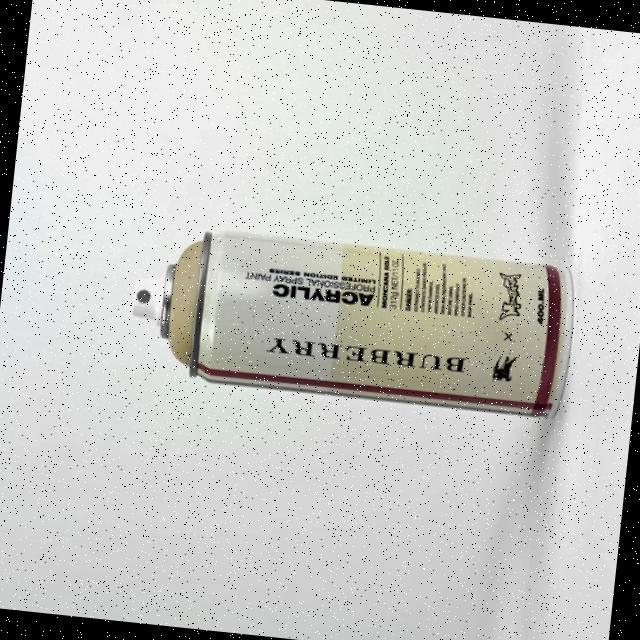chemical_spray_can: (131, 231, 573, 415)
